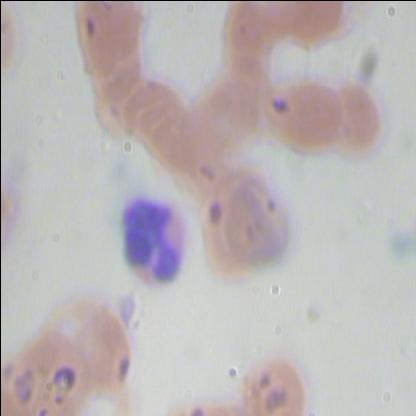RBC: (224, 169, 302, 271), (262, 72, 336, 155), (186, 70, 258, 154), (73, 306, 145, 390), (322, 83, 396, 162), (71, 1, 144, 78), (239, 342, 311, 416)
WBC: (116, 194, 186, 290)
